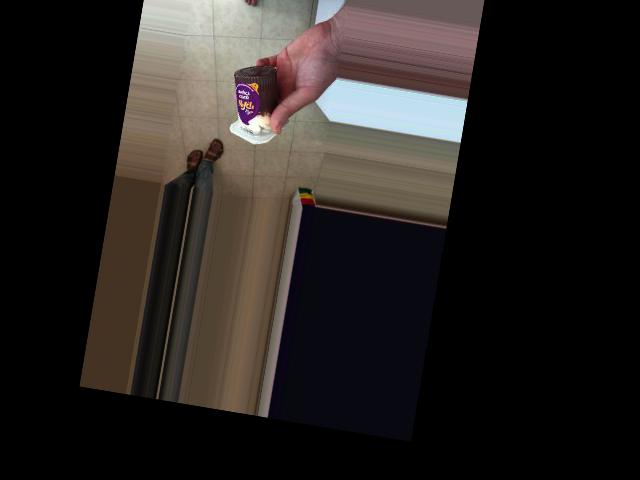milky: (227, 58, 292, 144)
